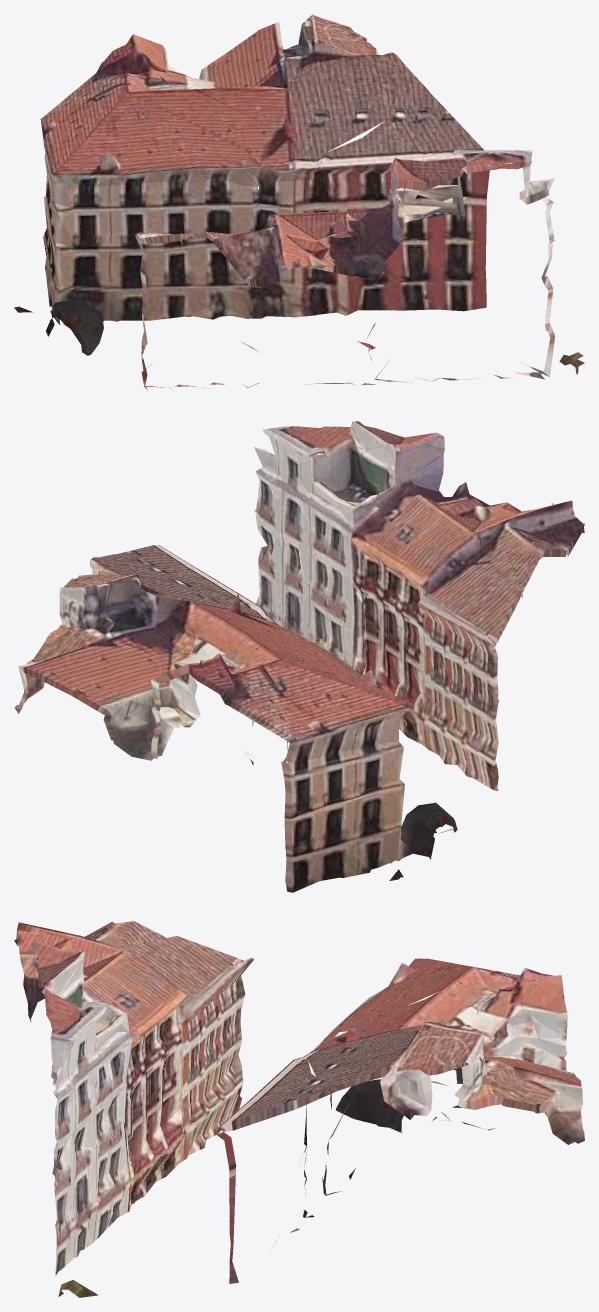
3 renders of one model, top to bottom at view 1: azimuth 30°, elevation 25°; view 2: azimuth 150°, elevation 25°; view 3: azimuth 270°, elevation 25°, orthographic. The views are drawn at different scales.
Visible parts, largest first — view 1: Mesh_0; view 2: Mesh_0; view 3: Mesh_0.
Boxes of the visible parts, x1,y1,x2,y2 form: Mesh_0: (14, 14, 584, 390); Mesh_0: (14, 421, 584, 892); Mesh_0: (14, 921, 584, 1297).
Size of the model in its own units: 32.45 by 20.76 by 41.47.
1 material, 1 textured.
